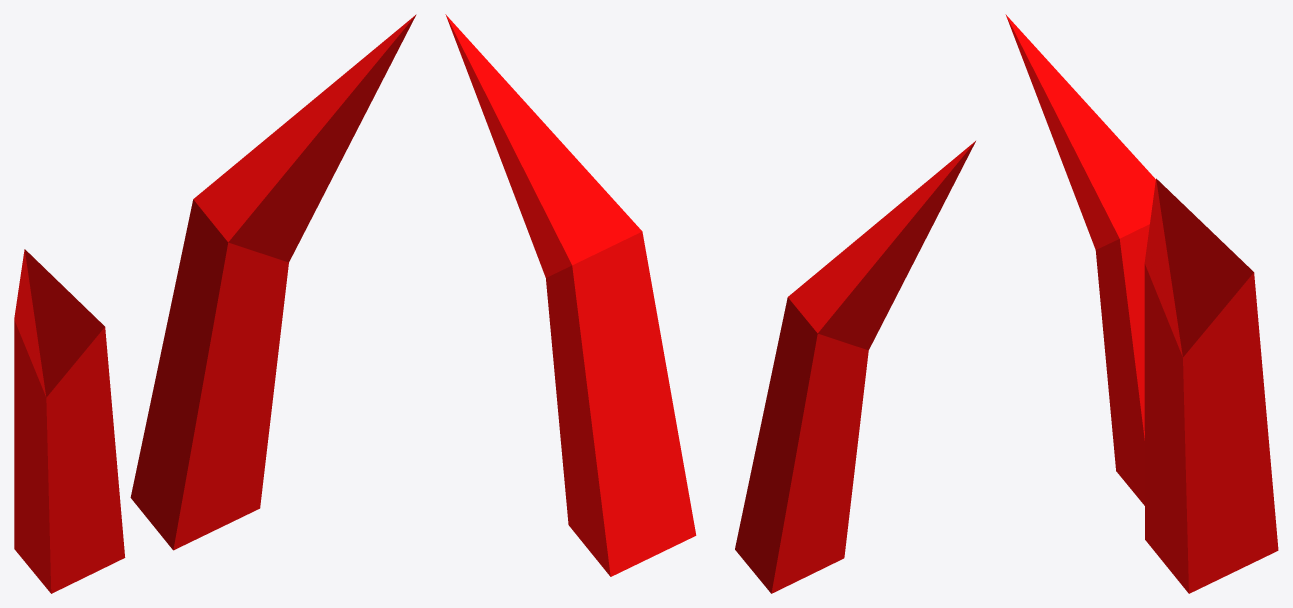
Rendered from grass3.fbx.
3 renders of one model, left to right at view 1: azimuth 30°, elevation 25°; view 2: azimuth 150°, elevation 25°; view 3: azimuth 270°, elevation 25°, orthographic. The views are drawn at different scales.
Parts seen in each view (by area): view 1: grass3; view 2: grass3; view 3: grass3.
Part boxes in pixels (box(x1,y1,x2,y2)): grass3: box(14, 14, 416, 593); grass3: box(445, 14, 975, 593); grass3: box(1005, 14, 1278, 593).
Bounding box in the file's own units: 0.5473 × 0.5304 × 0.2697.
